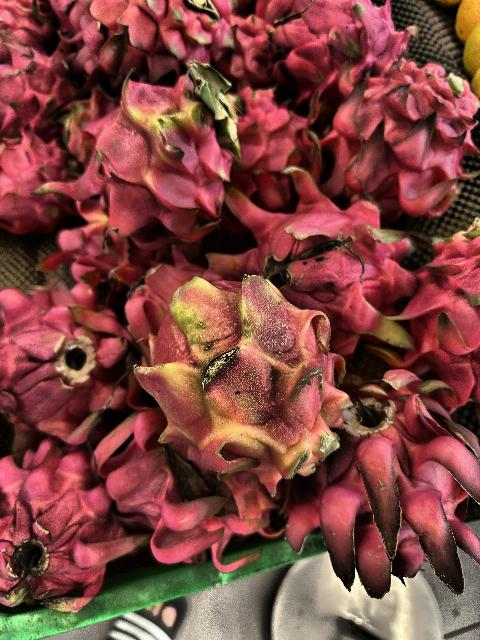buah-naga-belum-matang: (123, 260, 347, 472), (68, 72, 237, 240)
buah-naga-matang: (296, 373, 480, 591), (214, 180, 416, 338), (84, 406, 266, 578), (322, 48, 480, 225), (0, 439, 148, 616), (0, 269, 132, 443), (408, 218, 480, 402), (276, 0, 414, 81), (90, 0, 234, 68), (237, 86, 307, 196), (0, 130, 86, 218), (0, 43, 76, 131)
